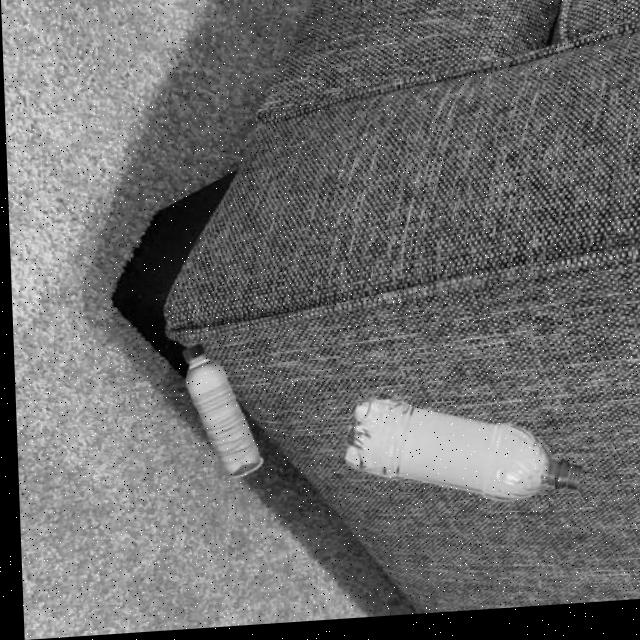bottle: (337, 390, 582, 518), (176, 341, 260, 484)
